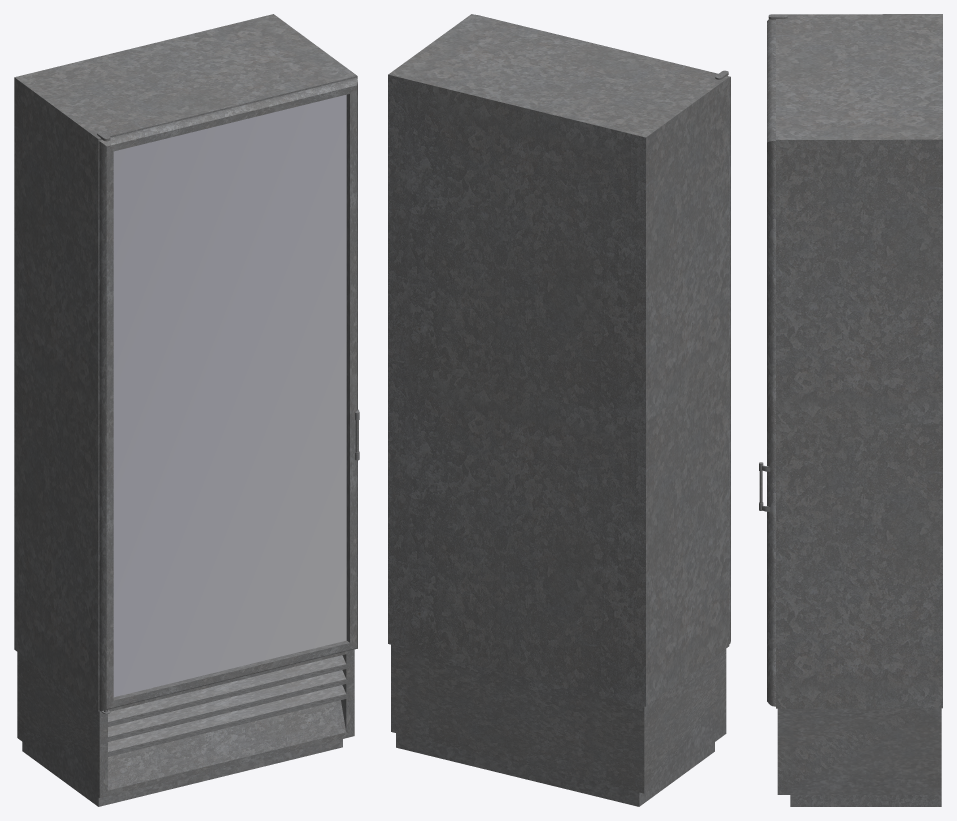
The model's file is SM_Prop_Fridge.FBX.
The picture shows the model from 3 angles, left to right: view 1: azimuth 30°, elevation 25°; view 2: azimuth 150°, elevation 25°; view 3: azimuth 270°, elevation 25°; orthographic projection.
Visible parts, largest first — view 1: SM_Prop_Fridge; view 2: SM_Prop_Fridge; view 3: SM_Prop_Fridge.
Boxes of the visible parts, x1,y1,x2,y2 form: SM_Prop_Fridge: (14,14,359,806); SM_Prop_Fridge: (388,14,730,806); SM_Prop_Fridge: (759,14,942,806).
Size of the model in its own units: 0.9674 by 2.41 by 0.5982.
